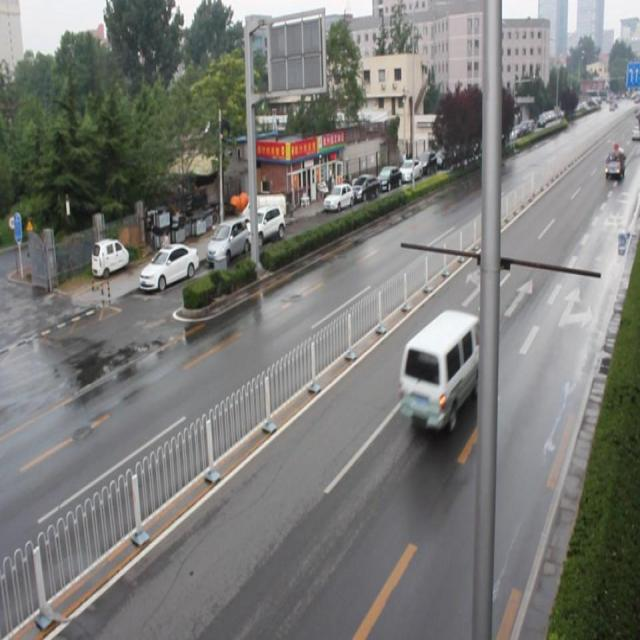truck: (399, 307, 490, 431)
